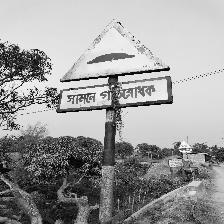Speed-breaker: (58, 19, 173, 113)
